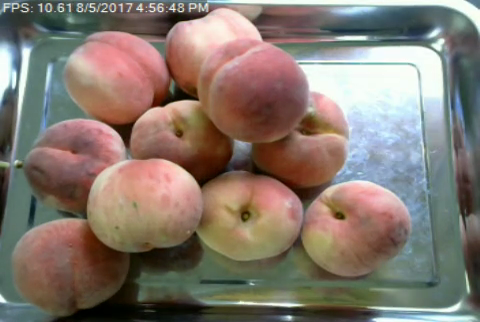Peach: (196, 36, 308, 142), (14, 215, 125, 317), (300, 180, 411, 276), (90, 155, 199, 252), (64, 28, 168, 127), (195, 171, 304, 259), (253, 89, 350, 184), (164, 8, 262, 101), (25, 119, 125, 206), (131, 99, 235, 180)
